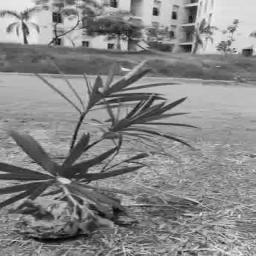OLEANDER: (0, 54, 203, 235)
